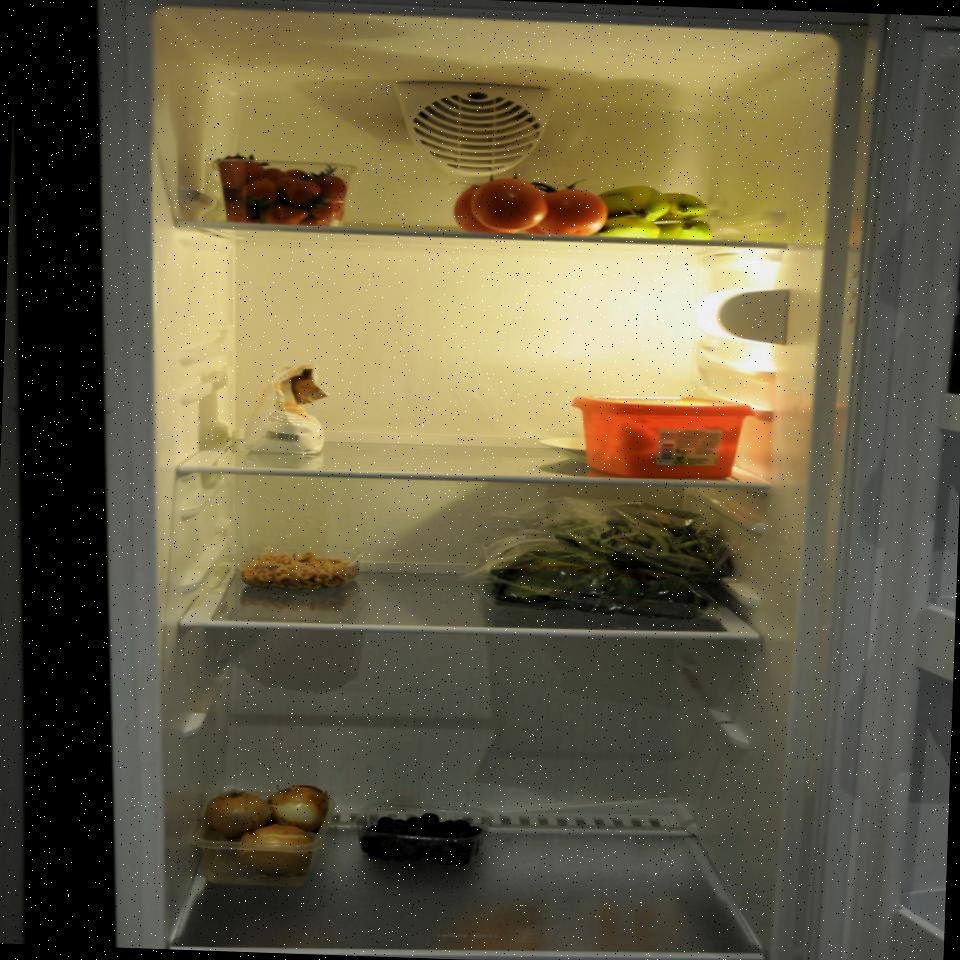Mantequilla: (567, 385, 762, 490)
Plátano: (586, 167, 724, 246)
Tomate: (448, 164, 614, 238)
